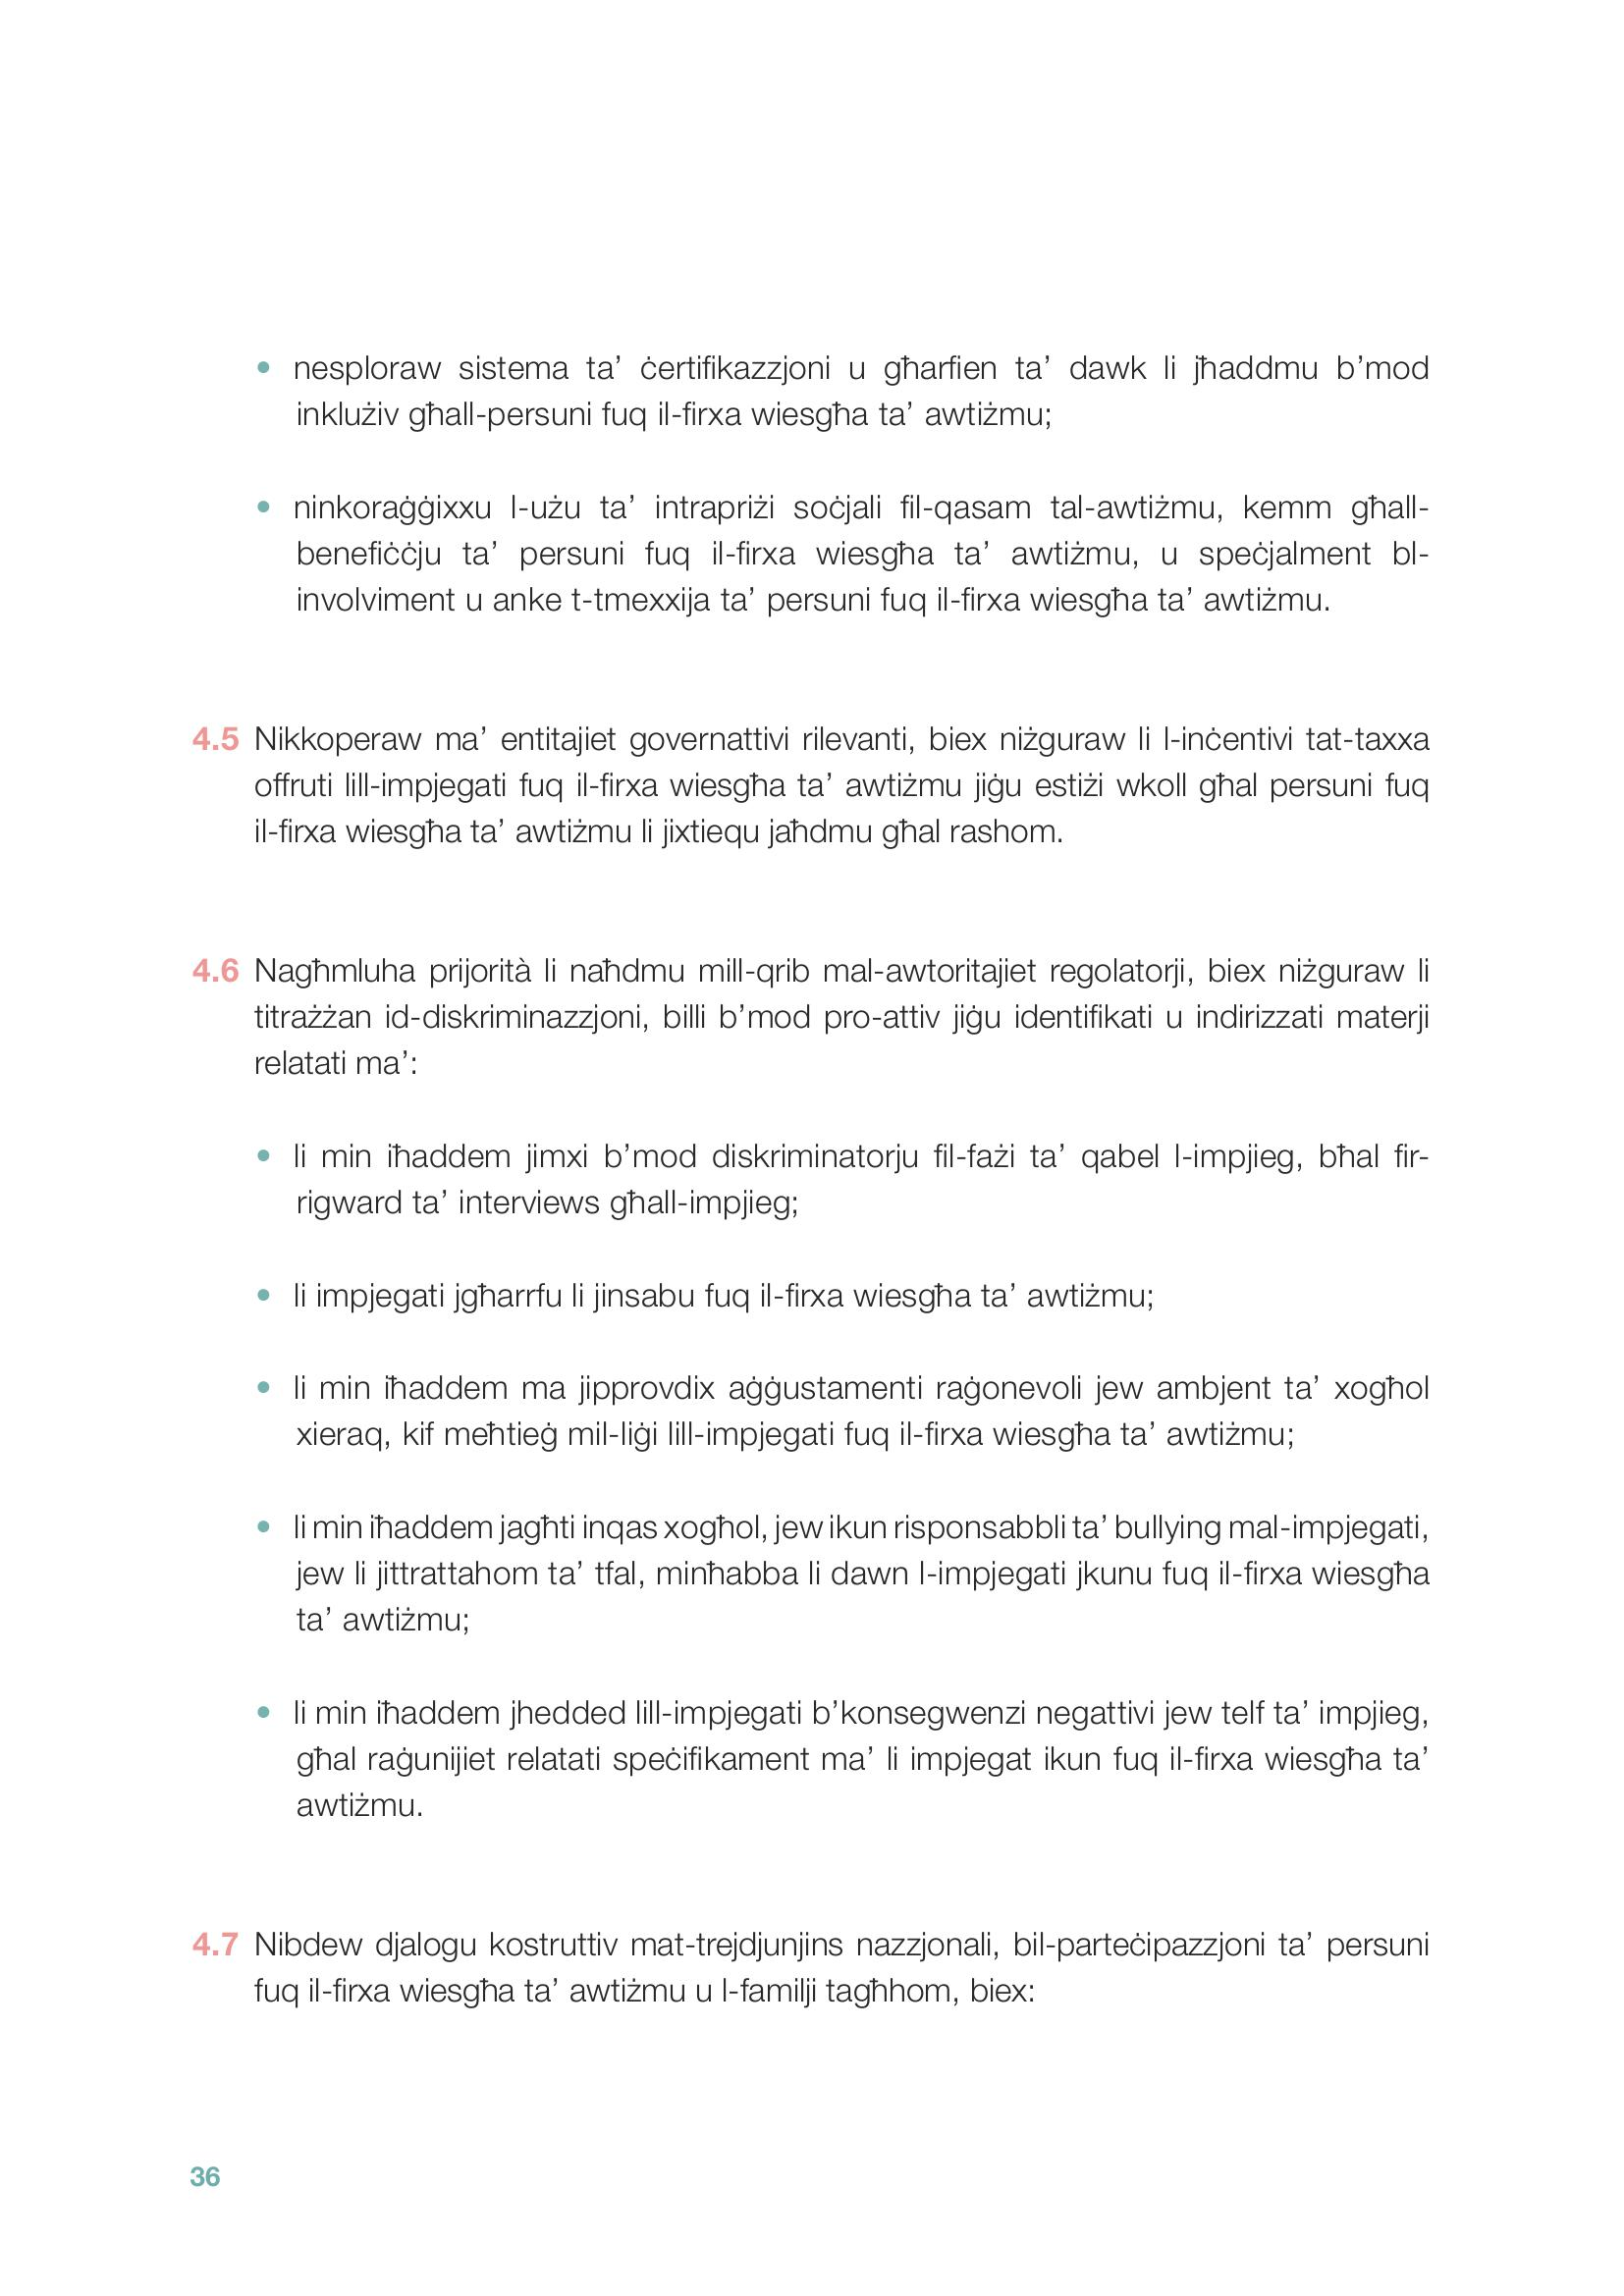text: (169, 339, 1459, 2032)
